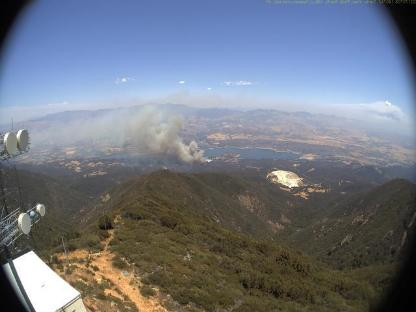smoke: (36, 98, 214, 164)
